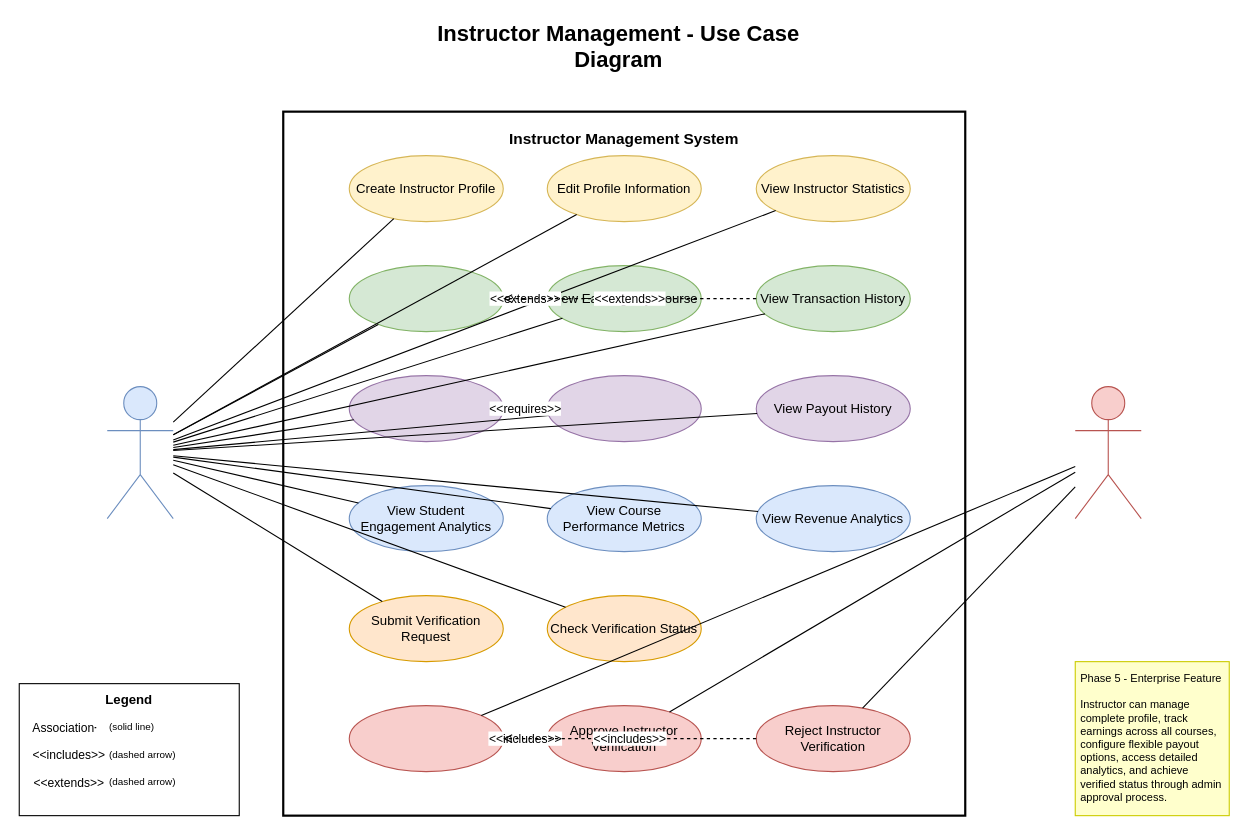
The diagram is 1249 pixels wide and 835 high, and some of its shapes have lost their labels. The centre of each missing label's shape, as x and y in pixels:
"Admin" goes at [1107,452].
"Configure Payout Settings" goes at [425,408].
"Instructor" goes at [139,452].
"Request Payout" goes at [623,408].
"Review Verification Request" goes at [425,738].
"View Earnings Dashboard" goes at [425,298].
